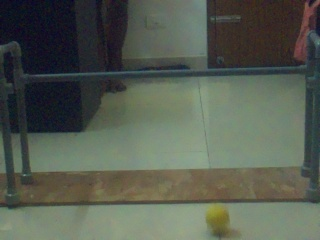ball: (205, 204, 229, 234)
